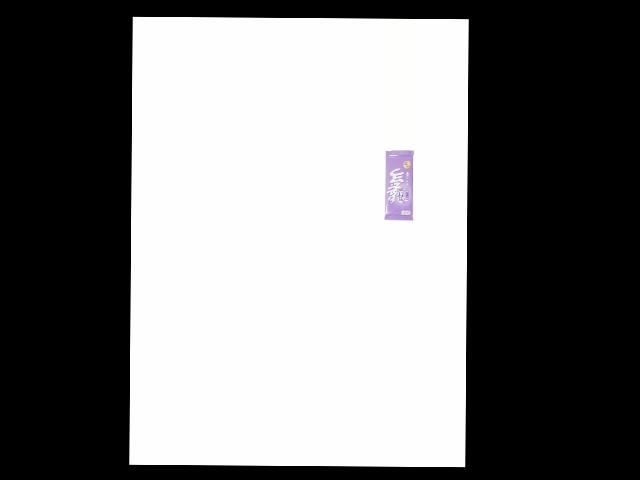chocolate: (383, 149, 417, 224)
